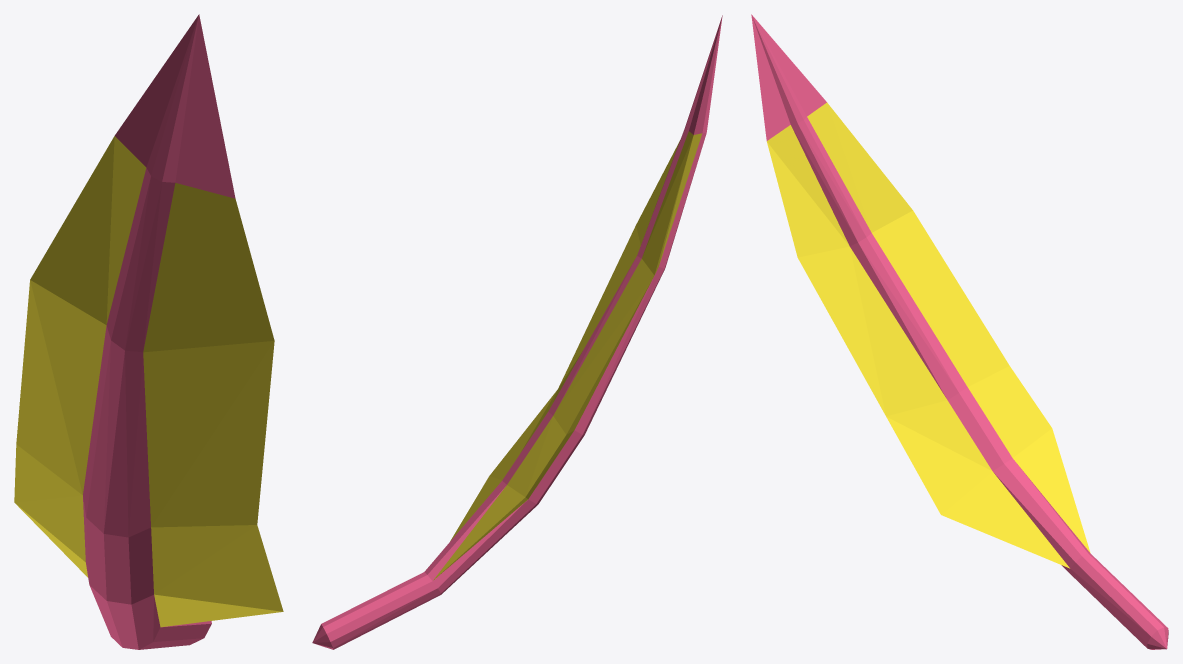
Rendered from pena.fbx.
3 views of the same model, side by side, from view 1: azimuth 30°, elevation 25°; view 2: azimuth 150°, elevation 25°; view 3: azimuth 270°, elevation 25° (orthographic). The views are drawn at different scales.
Visible parts, largest first — view 1: group_1844301098; view 2: group_1844301098; view 3: group_1844301098.
Boxes of the visible parts, x1,y1,x2,y2 form: group_1844301098: (14,14,283,649); group_1844301098: (312,15,722,649); group_1844301098: (751,14,1168,649).
Bounding box in the file's own units: 13.87 × 32.72 × 22.89.
